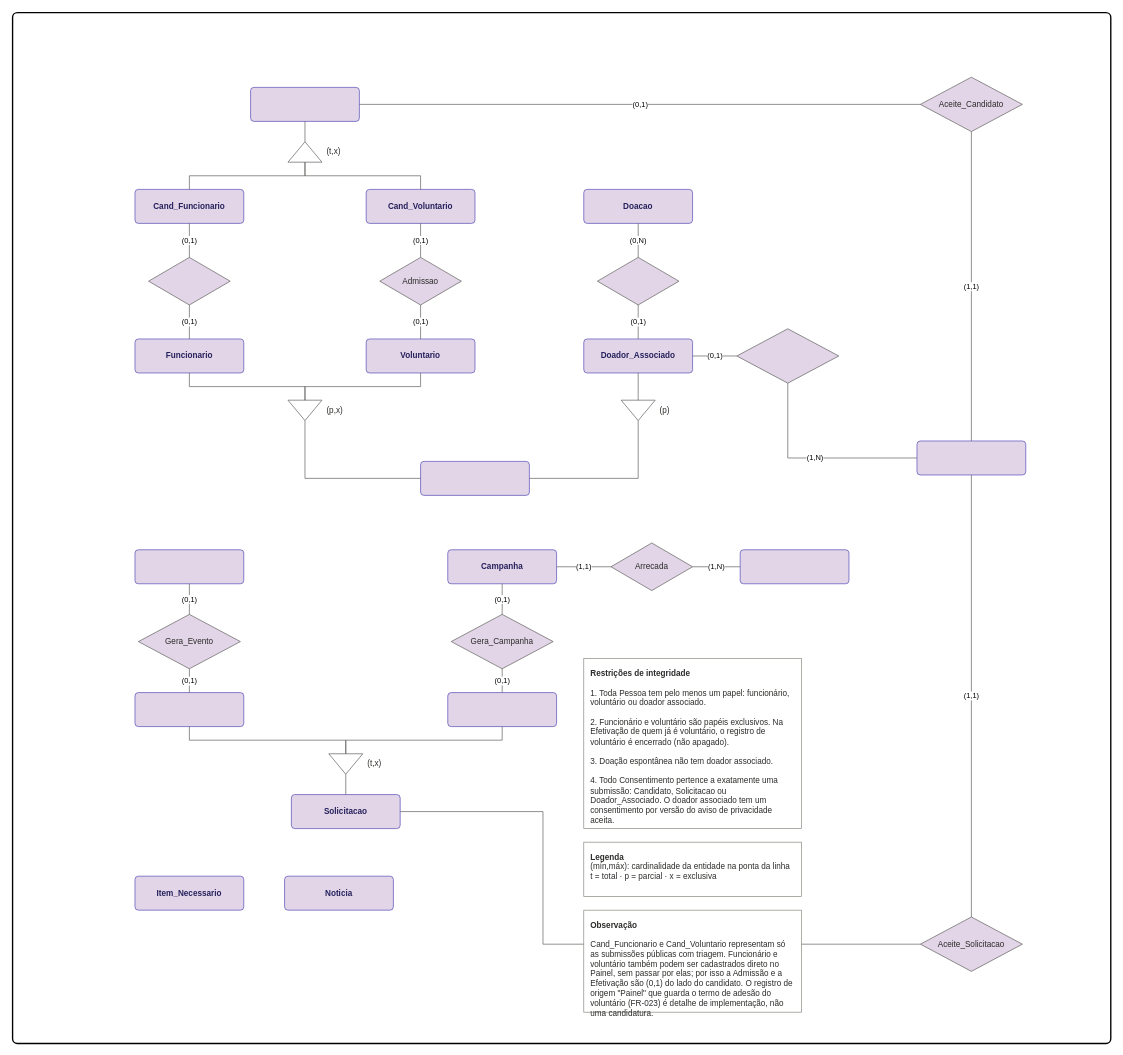
Image size: 1123x1055. Some labels were removed from this diagram. Each missing label, with the centre of its shape:
"Aceite_Doador" belongs at point (787, 355).
"Candidato" belongs at point (304, 104).
"Consentimento" belongs at point (971, 457).
"Doa" belongs at point (638, 281).
"Efetivacao" belongs at point (189, 281).
"Evento" belongs at point (189, 566).
"Pessoa" belongs at point (474, 478).
"Recurso" belongs at point (794, 566).
"Solic_Campanha" belongs at point (502, 709).
"Solic_Evento" belongs at point (189, 709).
